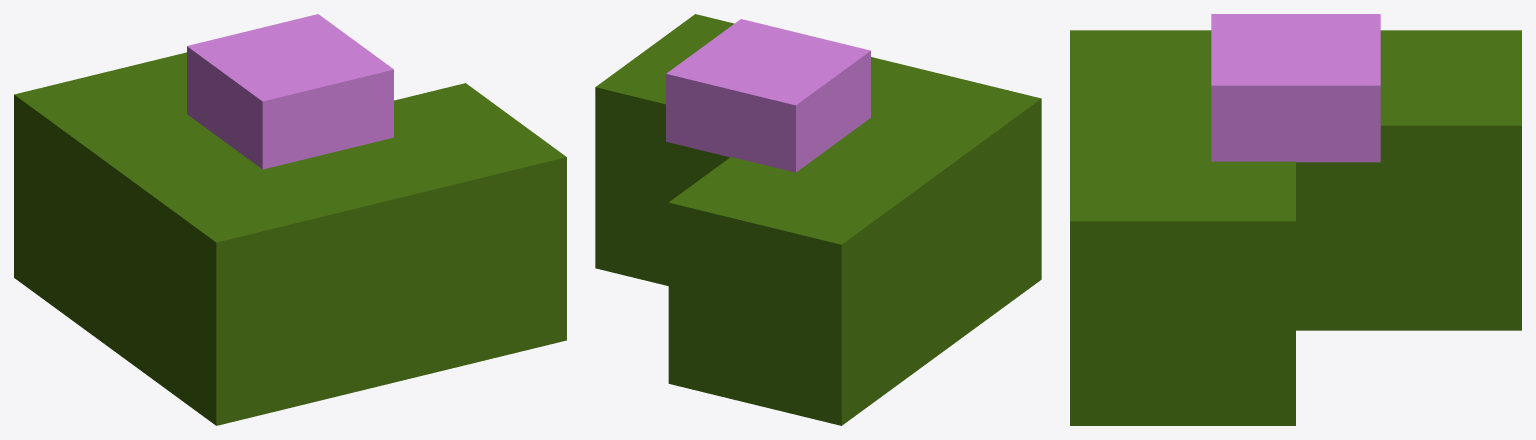
Rendered from waterlily2.fbx.
3 renders of one model, left to right at view 1: azimuth 30°, elevation 25°; view 2: azimuth 150°, elevation 25°; view 3: azimuth 270°, elevation 25°, orthographic. The views are drawn at different scales.
Visible parts, largest first — view 1: nenuphar LOD, flower LOD; view 2: nenuphar LOD, flower LOD; view 3: nenuphar LOD, flower LOD.
Boxes of the visible parts, bbox=[...] form: nenuphar LOD: bbox=[14, 52, 566, 425]; flower LOD: bbox=[187, 14, 393, 169]; nenuphar LOD: bbox=[595, 14, 1041, 425]; flower LOD: bbox=[666, 19, 870, 172]; nenuphar LOD: bbox=[1070, 30, 1521, 425]; flower LOD: bbox=[1211, 14, 1380, 162].
Size of the model in its own units: 100 by 68.55 by 100.
